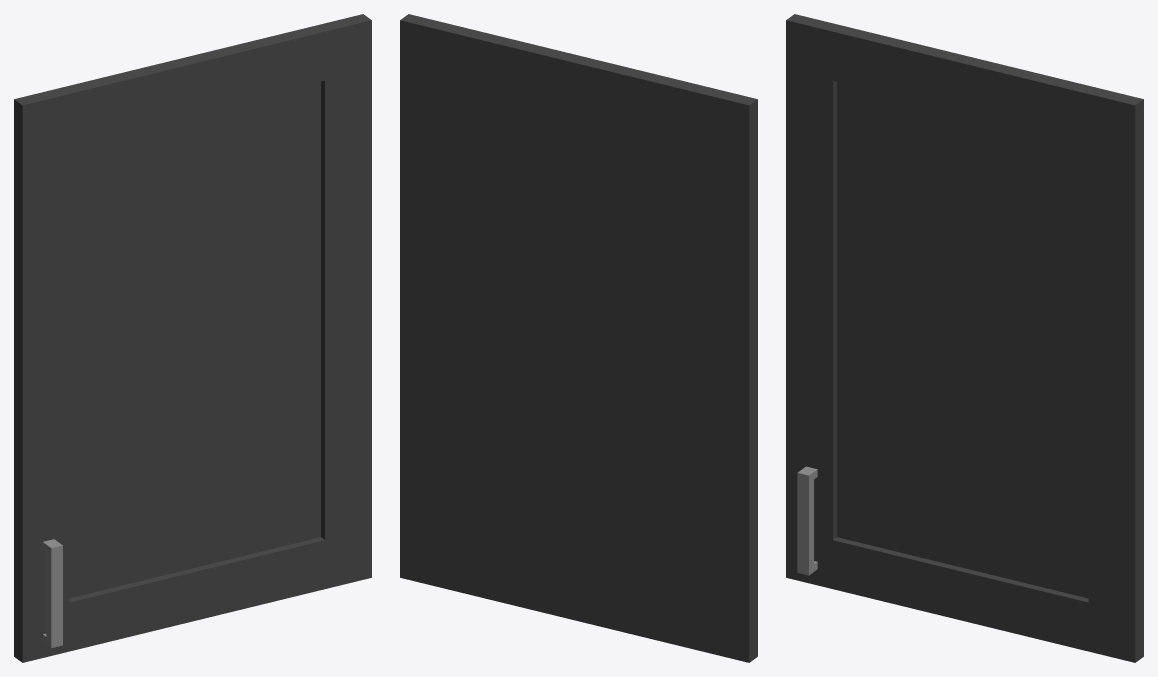
The model's file is Door2_C3_11.fbx.
3 views of the same model, side by side, from view 1: azimuth 30°, elevation 25°; view 2: azimuth 150°, elevation 25°; view 3: azimuth 330°, elevation 25° (orthographic).
Visible parts, largest first — view 1: Door2_C3_11; view 2: Door2_C3_11; view 3: Door2_C3_11.
Part boxes in pixels (x1,y1,x2,y2): Door2_C3_11: [14, 14, 371, 662]; Door2_C3_11: [400, 14, 757, 662]; Door2_C3_11: [786, 14, 1143, 662].
Size of the model in its own units: 59 by 90 by 5.03.
